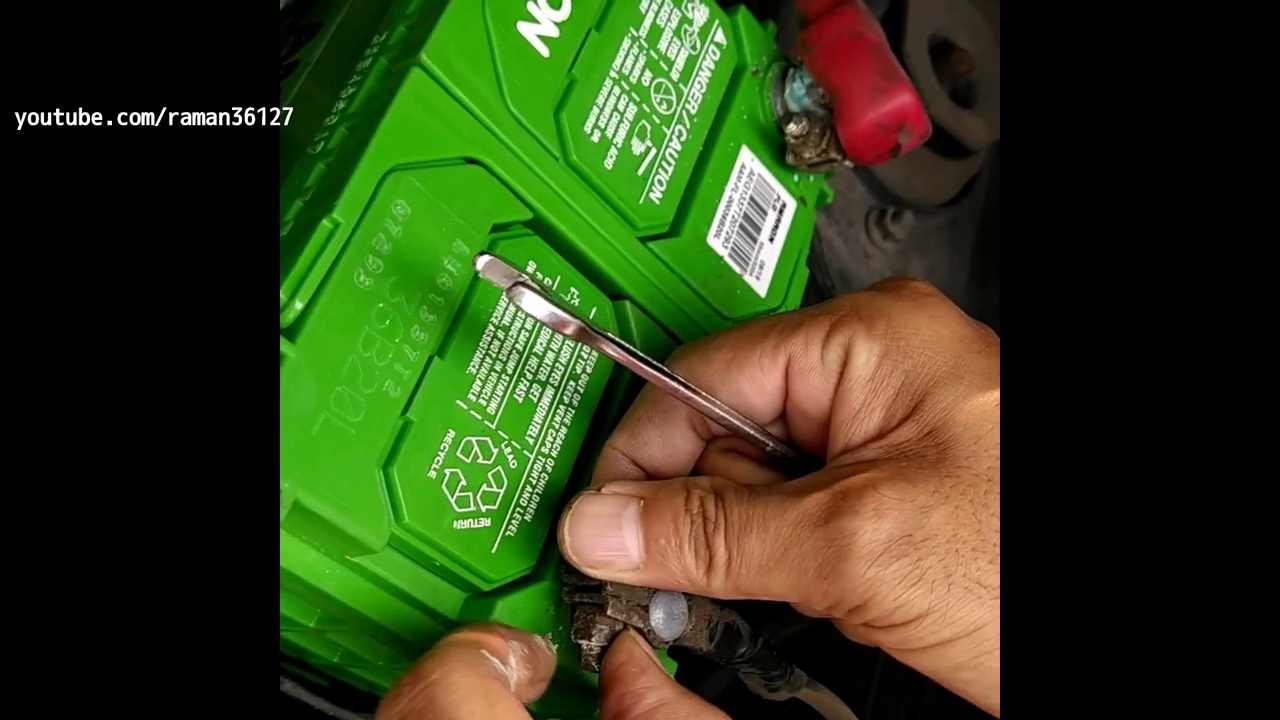battery: (285, 16, 950, 671)
neg_connected: (556, 541, 782, 685)
neg_touched: (478, 377, 983, 720)
pos_connected: (742, 35, 953, 210)
